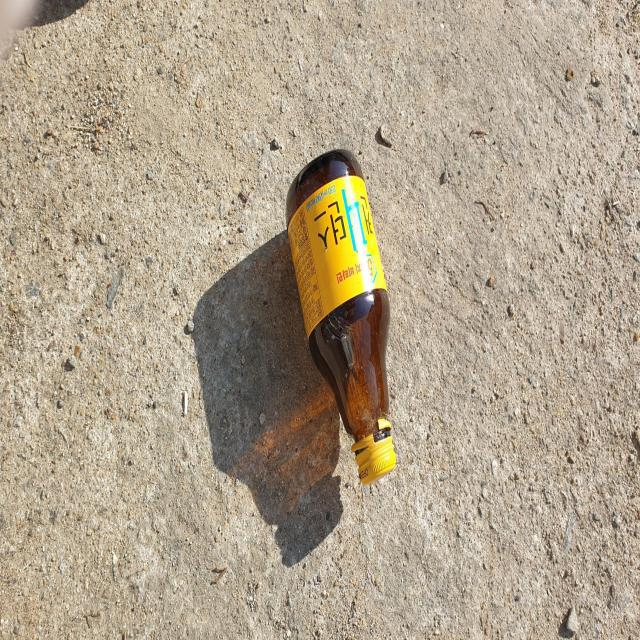glass: (286, 148, 396, 485)
